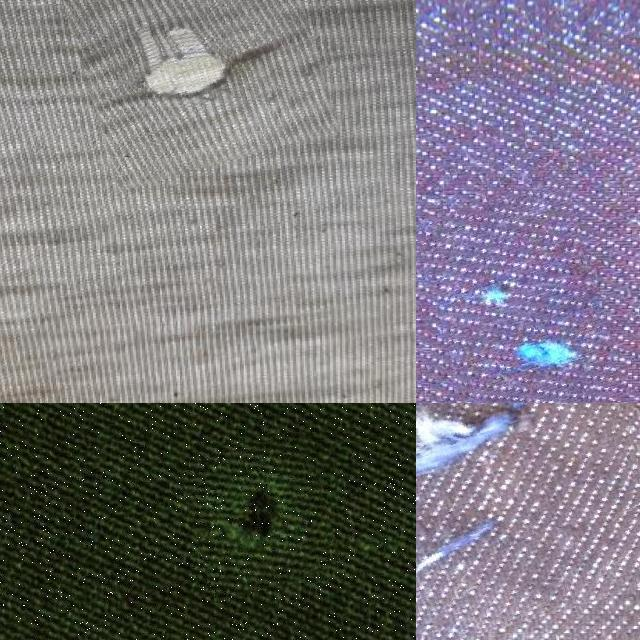other: (74, 0, 328, 177), (184, 436, 336, 594)
stains: (416, 403, 640, 640), (426, 186, 614, 403)
